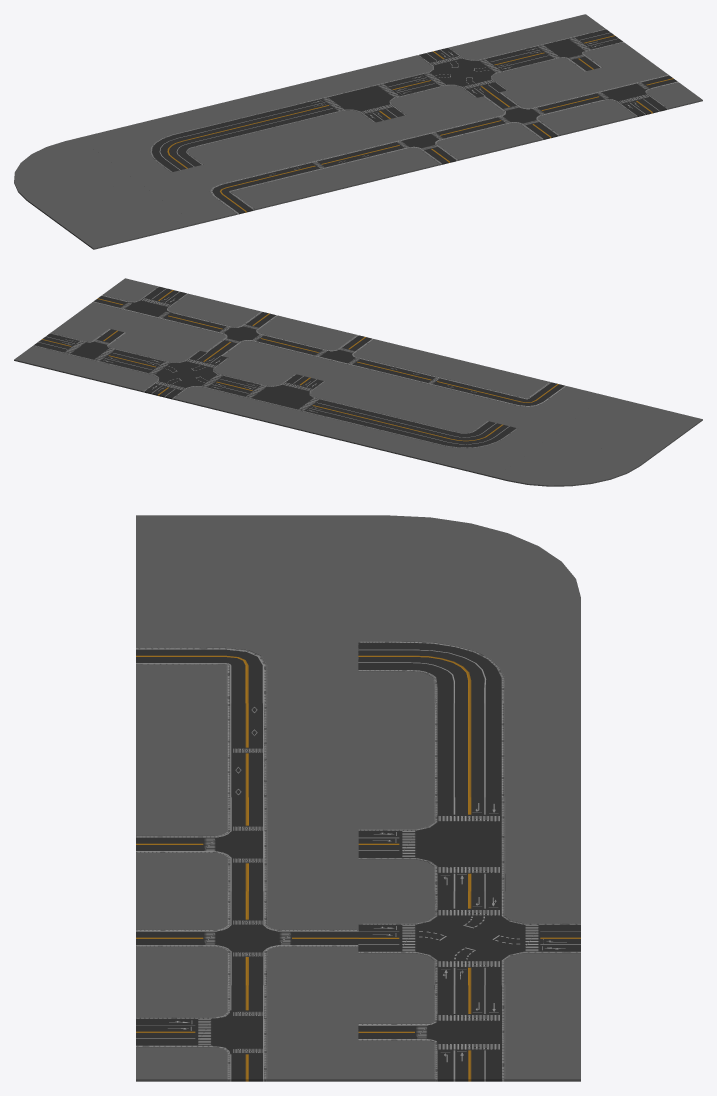
The model's file is Roads.fbx.
3 views of the same model, one above another, from view 1: azimuth 30°, elevation 25°; view 2: azimuth 150°, elevation 25°; view 3: azimuth 270°, elevation 25° (orthographic). The views are drawn at different scales.
Visible parts, largest first — view 1: Road.010, Road.005, Road.006, Road.007, Road.008, Road.009, Road.002, Road.003, Road.004, Road, Road.001, Road.011; view 2: Road, Road.002, Road.004, Road.003, Road.001, Road.010, Road.008, Road.009, Road.006, Road.005, Road.007, Road.011; view 3: Road.004, Road.009, Road.006, Road.007, Road.010, Road.001, Road.002, Road, Road.003, Road.005, Road.008, Road.011.
Part boxes in pixels (box(x1,y1,x2,y2)): Road.010: box(35, 181, 195, 249); Road.005: box(238, 131, 398, 199); Road.006: box(137, 156, 296, 224); Road.007: box(441, 82, 601, 150); Road.008: box(340, 106, 499, 175); Road.009: box(543, 57, 702, 125); Road.002: box(78, 113, 237, 180); Road.003: box(180, 88, 339, 155); Road.004: box(484, 14, 643, 81); Road: box(383, 39, 542, 106); Road.001: box(281, 63, 440, 131); Road.011: box(14, 138, 135, 206); Road: box(110, 342, 261, 407); Road.002: box(399, 413, 550, 478); Road.004: box(14, 319, 165, 383); Road.003: box(303, 389, 454, 454); Road.001: box(206, 366, 357, 431); Road.010: box(551, 396, 702, 460); Road.008: box(262, 325, 413, 389); Road.009: box(70, 278, 220, 342); Road.006: box(455, 372, 606, 436); Road.005: box(359, 349, 509, 412); Road.007: box(166, 302, 317, 365); Road.011: box(495, 436, 647, 486); Road.004: box(358, 985, 580, 1081); Road.009: box(136, 985, 358, 1081); Road.006: box(136, 609, 358, 703); Road.007: box(136, 891, 358, 985); Road.010: box(136, 515, 358, 609); Road.001: box(358, 797, 580, 891); Road.002: box(358, 609, 580, 703); Road: box(358, 891, 580, 985); Road.003: box(358, 703, 580, 797); Road.005: box(136, 703, 358, 797); Road.008: box(136, 797, 358, 891); Road.011: box(358, 515, 580, 609).
Size of the model in its own units: 150 by 0.3342 by 50.
Materials: 1 (1 with a texture image).
